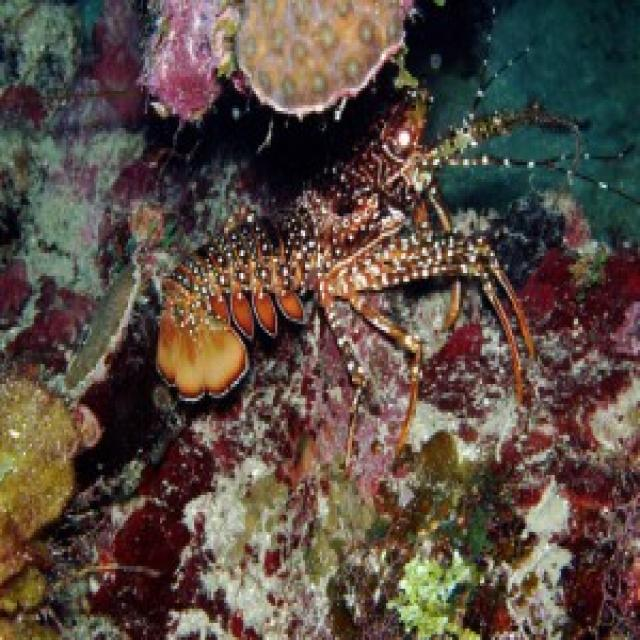lobsters: (89, 35, 640, 565)
